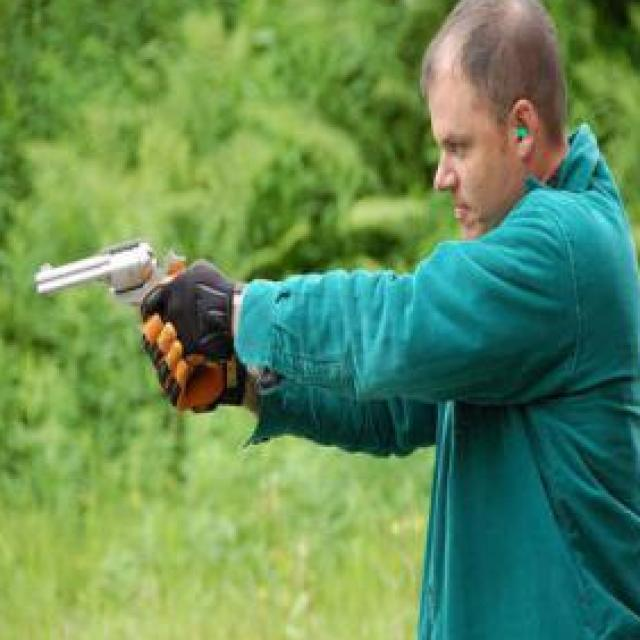pistol: (33, 240, 218, 374)
